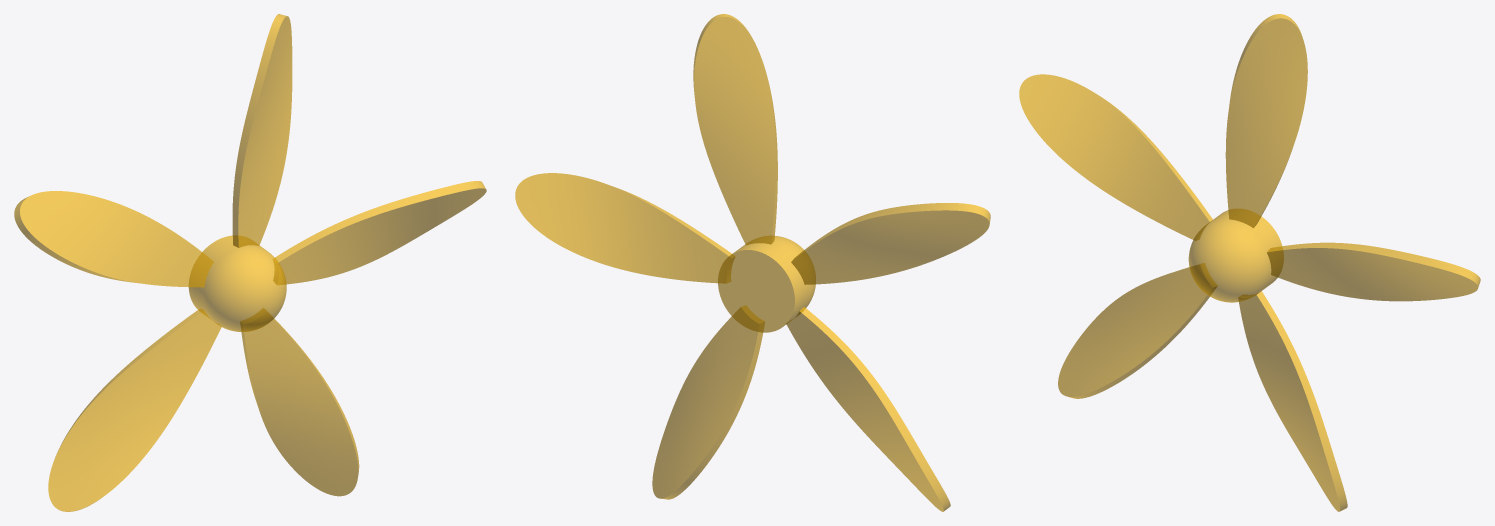
Rendered from fan.glb.
The picture shows the model from 3 angles, left to right: view 1: azimuth 30°, elevation 25°; view 2: azimuth 150°, elevation 25°; view 3: azimuth 330°, elevation 25°; orthographic projection. The views are drawn at different scales.
Visible parts, largest first — view 1: Mesh_3, Mesh_4, Mesh_2, Mesh_0, Mesh_1, Mesh_5; view 2: Mesh_0, Mesh_1, Mesh_2, Mesh_4, Mesh_3, Mesh_5; view 3: Mesh_4, Mesh_0, Mesh_3, Mesh_1, Mesh_2, Mesh_5.
Part boxes in pixels (x1=…): Mesh_3: x1=48, y1=308, x2=221, y2=511; Mesh_4: x1=14, y1=191, x2=213, y2=287; Mesh_2: x1=240, y1=308, x2=359, y2=496; Mesh_0: x1=232, y1=14, x2=292, y2=247; Mesh_1: x1=273, y1=181, x2=486, y2=284; Mesh_5: x1=188, y1=235, x2=286, y2=331; Mesh_0: x1=693, y1=14, x2=777, y2=245; Mesh_1: x1=515, y1=173, x2=734, y2=283; Mesh_2: x1=652, y1=305, x2=764, y2=499; Mesh_4: x1=791, y1=203, x2=990, y2=284; Mesh_3: x1=786, y1=307, x2=950, y2=511; Mesh_5: x1=718, y1=236, x2=815, y2=332; Mesh_4: x1=1019, y1=74, x2=1212, y2=240; Mesh_0: x1=1225, y1=14, x2=1307, y2=227; Mesh_3: x1=1058, y1=263, x2=1217, y2=398; Mesh_1: x1=1267, y1=242, x2=1480, y2=301; Mesh_2: x1=1238, y1=291, x2=1347, y2=511; Mesh_5: x1=1188, y1=209, x2=1283, y2=302.
Size of the model in its own units: 3.67 by 3.69 by 0.5382.
